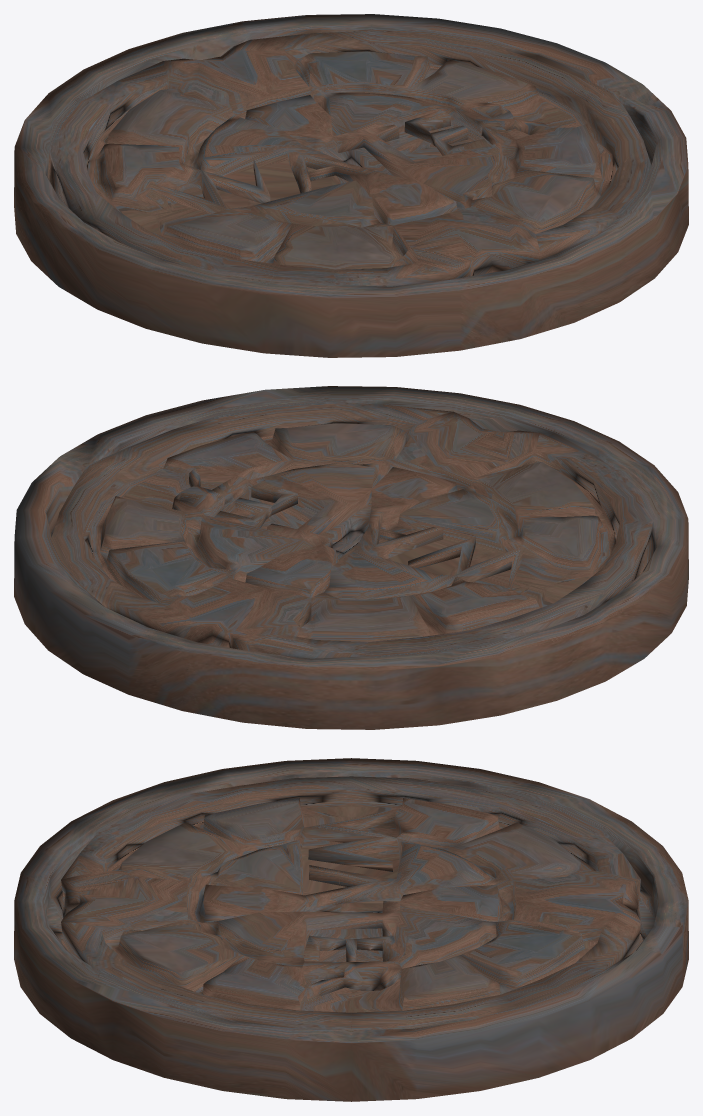
File: water_manhole_cover.glb
3 views of the same model, one above another, from view 1: azimuth 30°, elevation 25°; view 2: azimuth 150°, elevation 25°; view 3: azimuth 270°, elevation 25° (orthographic).
Parts seen in each view (by area): view 1: water_manhole_cover; view 2: water_manhole_cover; view 3: water_manhole_cover.
Part boxes in pixels (x1,y1,x2,y2): water_manhole_cover: (14, 14, 688, 357); water_manhole_cover: (14, 386, 688, 729); water_manhole_cover: (14, 758, 688, 1101).
Bounding box in the file's own units: 0.6908 × 0.0676 × 0.6908.
Materials: 1 (1 with a texture image).
